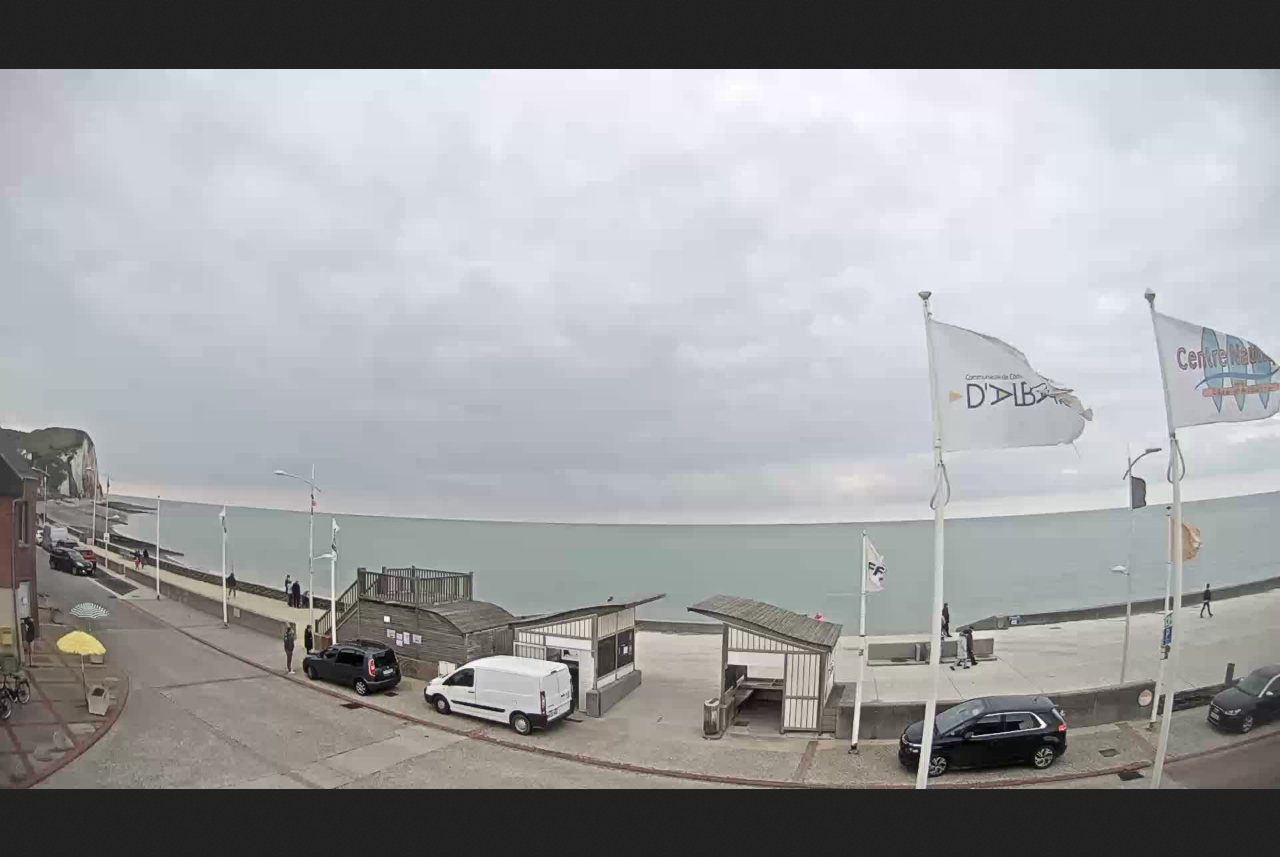yes: (930, 316, 1090, 446), (1153, 313, 1280, 425)
